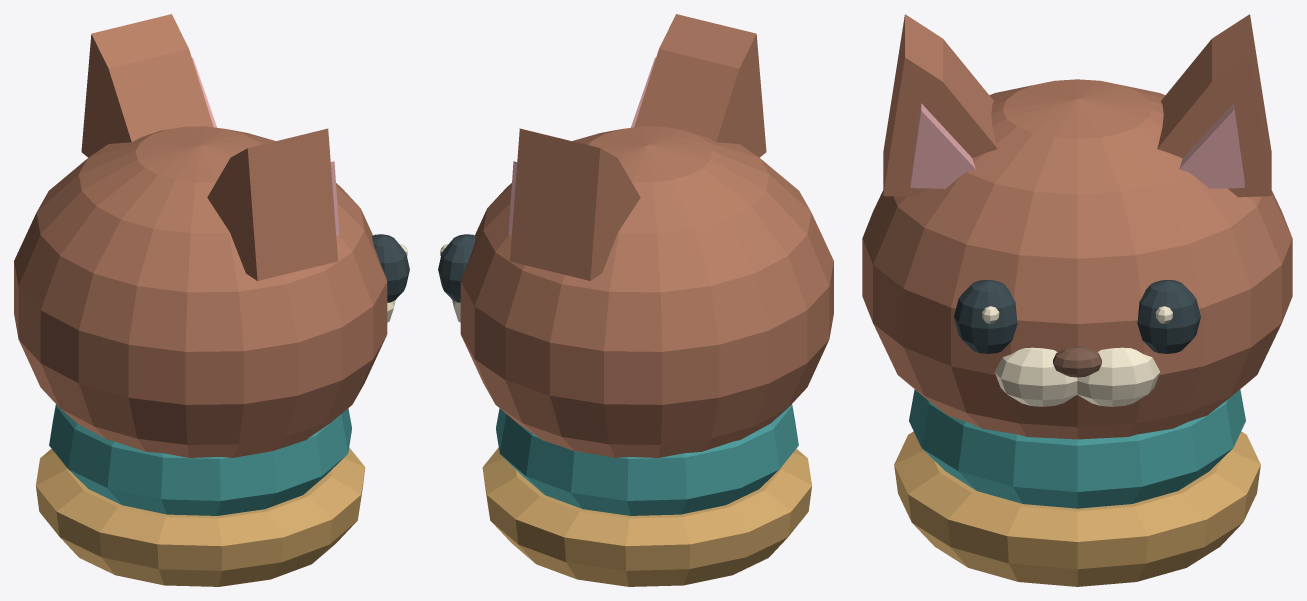
Rendered from SM_Pinball_Recruit2.fbx.
The picture shows the model from 3 angles, left to right: view 1: azimuth 30°, elevation 25°; view 2: azimuth 150°, elevation 25°; view 3: azimuth 270°, elevation 25°; orthographic projection. The views are drawn at different scales.
Visible parts, largest first — view 1: SM_Pinball_Recruit2; view 2: SM_Pinball_Recruit2; view 3: SM_Pinball_Recruit2.
Boxes of the visible parts, left/top/right/bottom form: SM_Pinball_Recruit2: left=14, top=14, right=409, bottom=586; SM_Pinball_Recruit2: left=438, top=14, right=833, bottom=586; SM_Pinball_Recruit2: left=862, top=14, right=1292, bottom=586.
Size of the model in its own units: 56 by 55.35 by 69.7.
